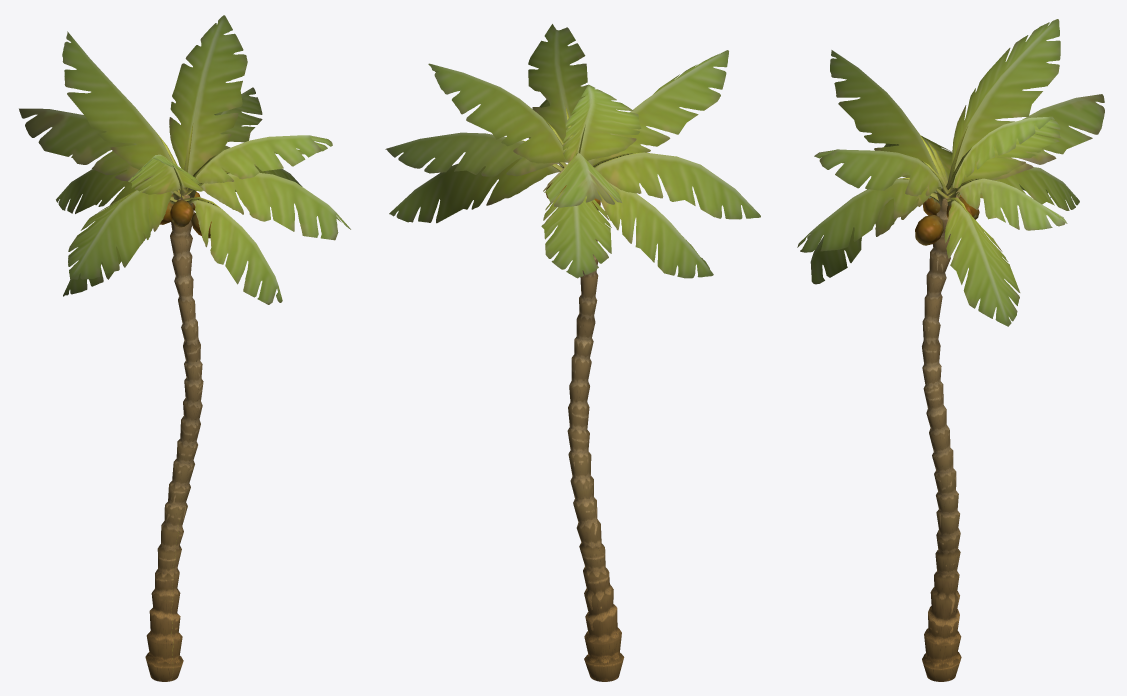
The model's file is coconut palm 02_lod2.obj.
3 views of the same model, side by side, from view 1: azimuth 30°, elevation 25°; view 2: azimuth 150°, elevation 25°; view 3: azimuth 270°, elevation 25° (orthographic). The views are drawn at different scales.
Parts seen in each view (by area): view 1: tree; view 2: tree; view 3: tree.
Boxes of the visible parts, x1,y1,x2,y2 form: tree: (19, 15, 350, 681); tree: (385, 24, 760, 681); tree: (797, 19, 1104, 681).
Bounding box in the file's own units: 427 × 847 × 388.
